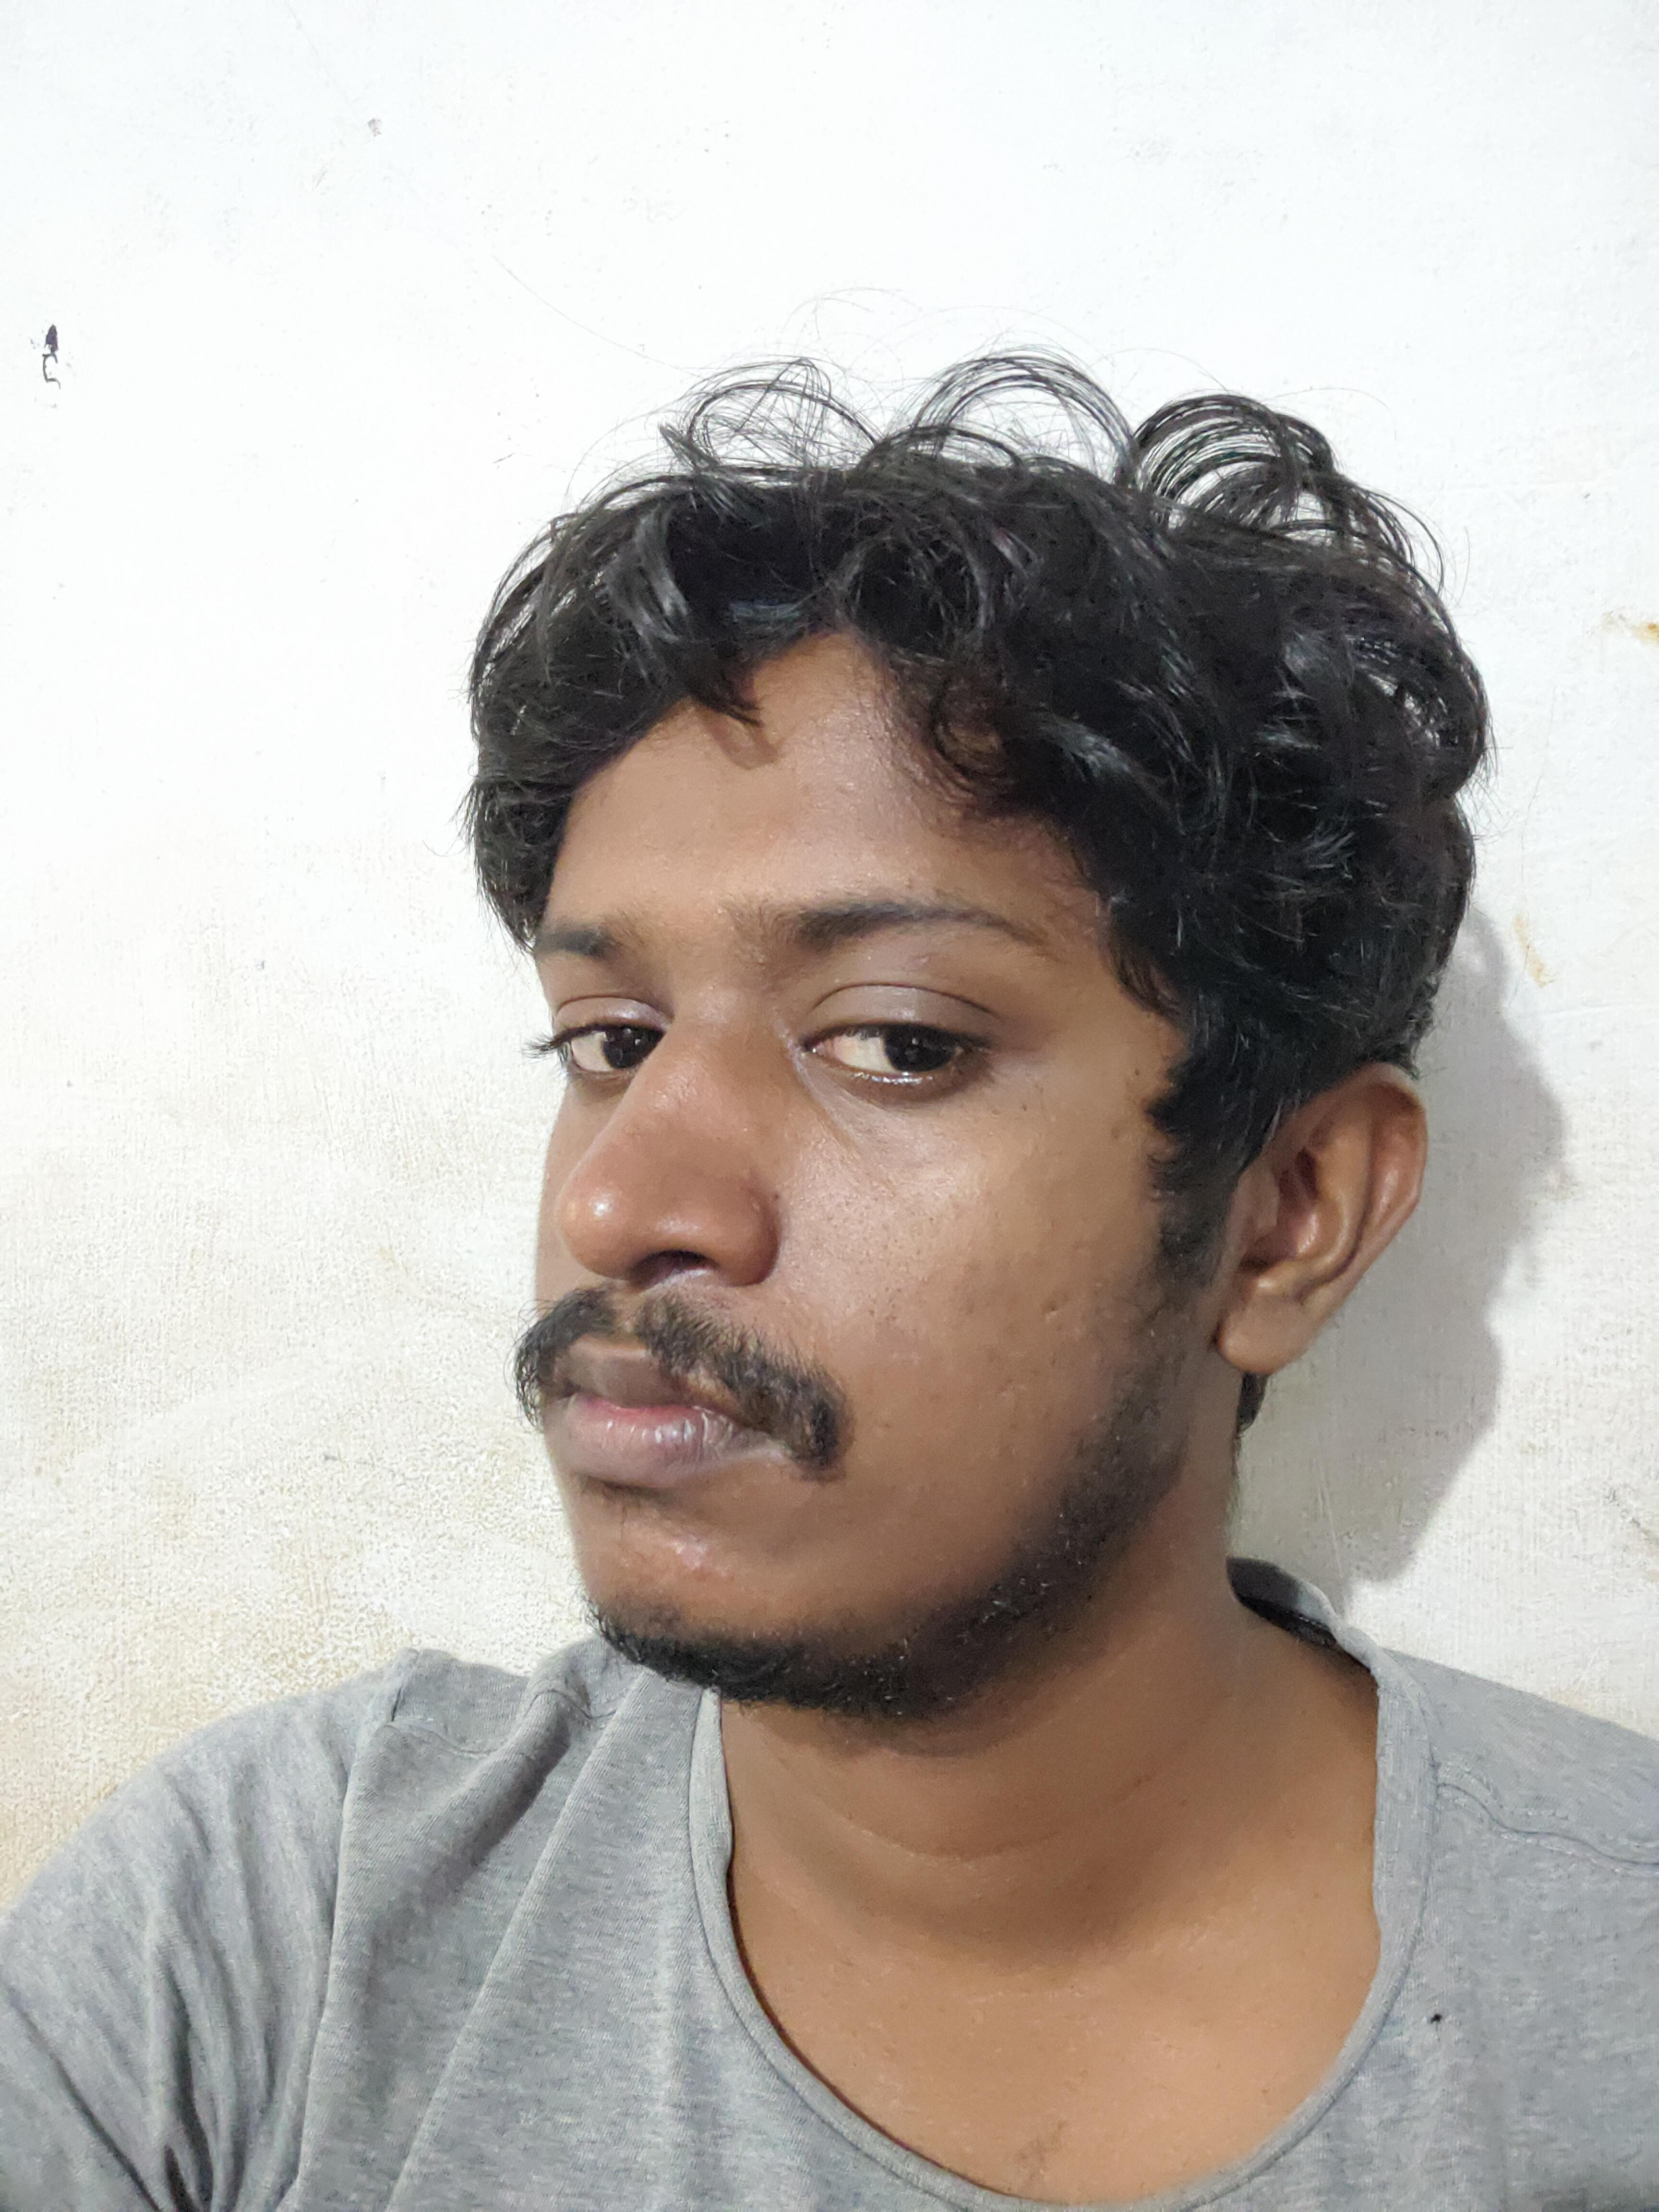Acne: (662, 1531, 753, 1601), (889, 859, 925, 892), (605, 1550, 641, 1578), (1080, 1409, 1107, 1435), (753, 949, 774, 972), (713, 902, 732, 923)
Englarged-Pores: (793, 1170, 981, 1338), (1026, 1278, 1100, 1348), (976, 1437, 1028, 1477), (986, 1372, 1032, 1418)
